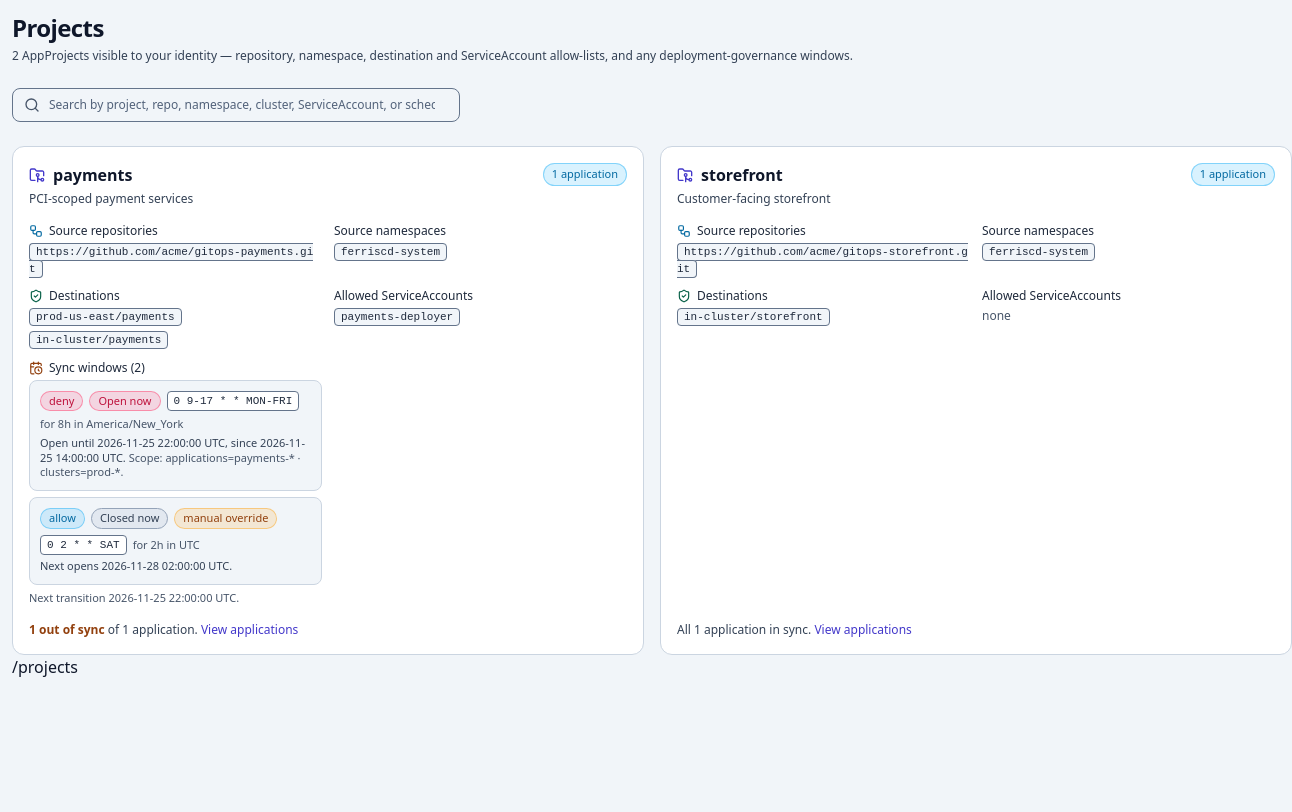
Test: ProjectsPage (T17.3) › shows each deployment-governance window with its live state (T17.4)
Expected: the element with test id "project-sync-windows-payments" shows "0 9-17 * * MON-FRI", [174, 395, 292, 407]
Expected: the element with test id "project-sync-windows-payments" shows "America/New_York", [86, 416, 183, 431]
# The schedule is searchable, like every other boundary fact on the card.
Type "MON-FRI" into the search field named "Search projects" at point(236, 105), box [12, 88, 460, 122]
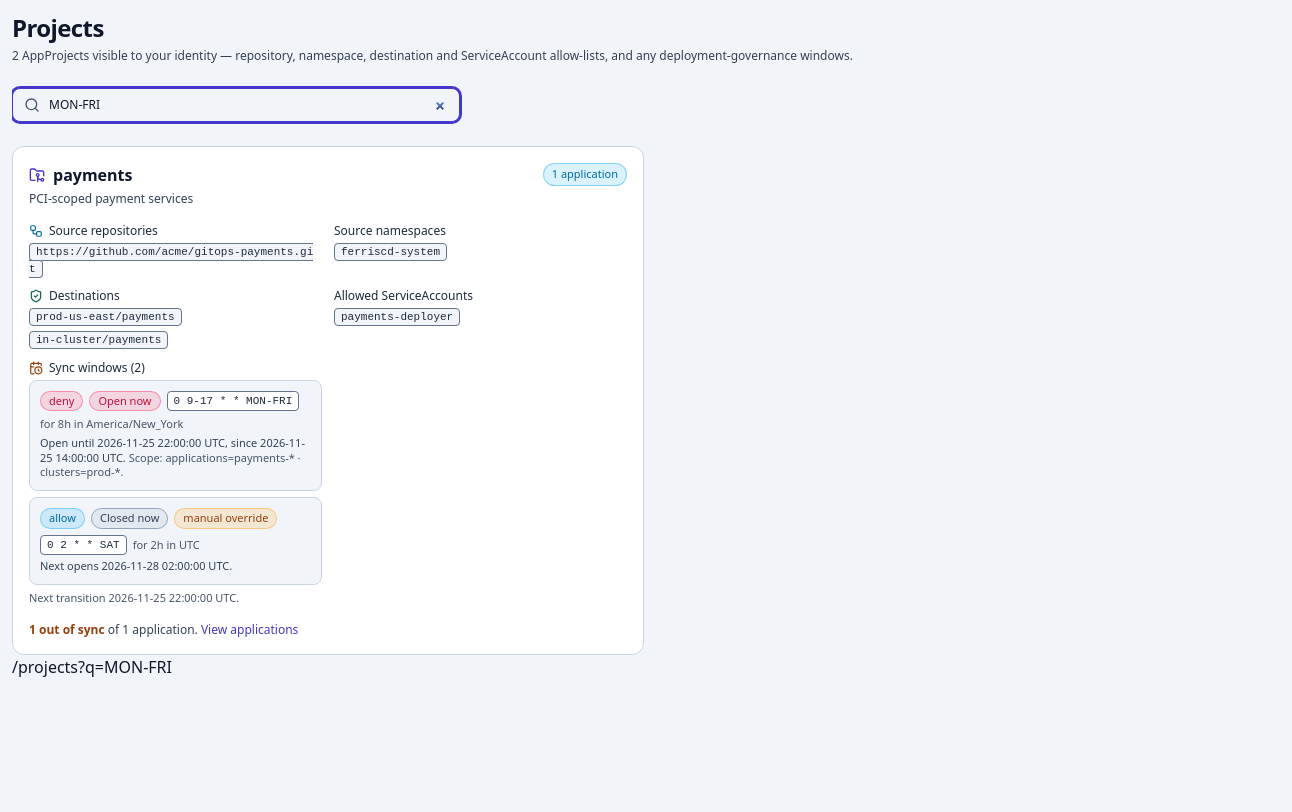
Expected: the link "payments" is shown, [53, 163, 132, 187]
Result: the link "storefront" is gone
